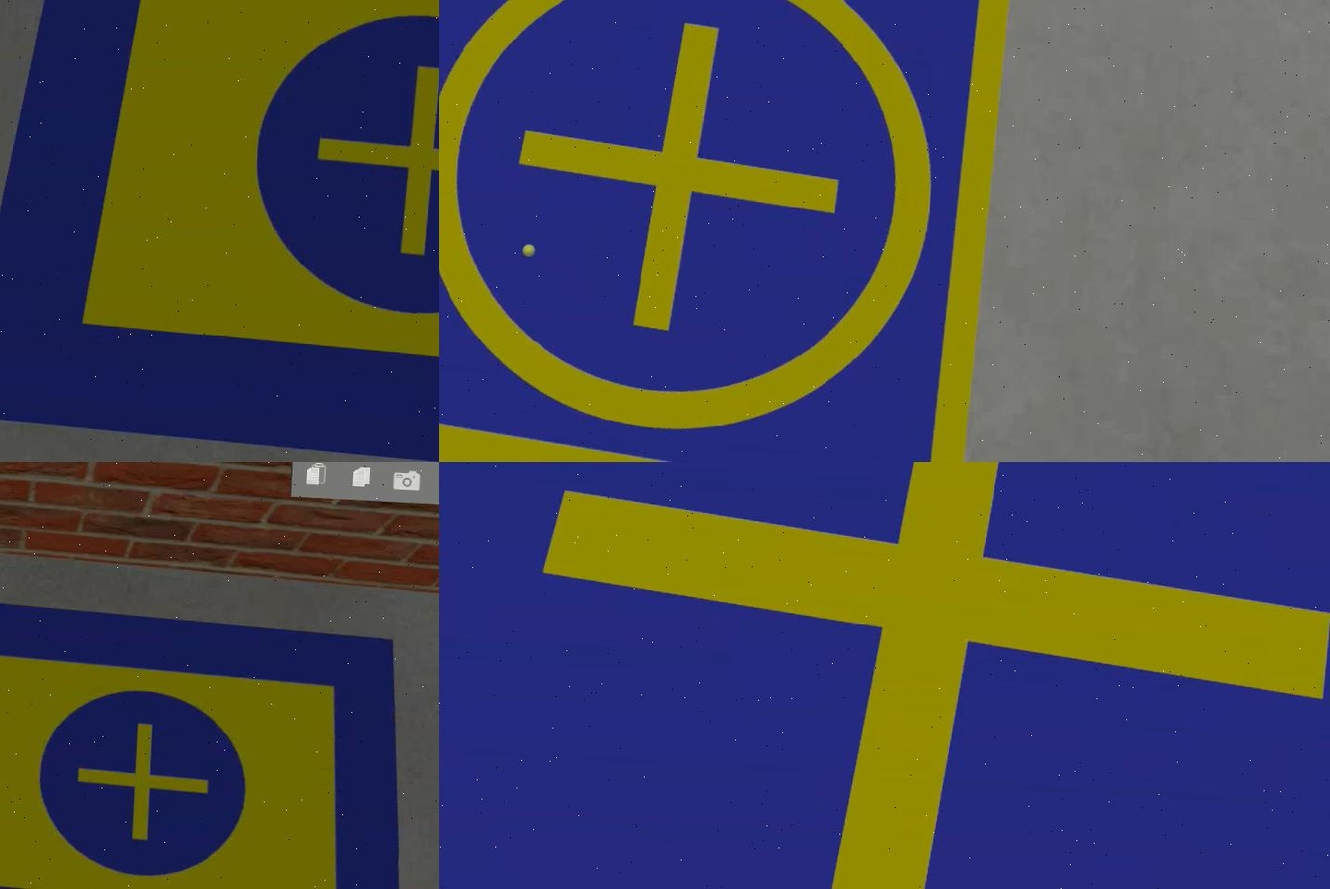large_base: (0, 1, 437, 462), (0, 594, 421, 889)
small_base: (437, 462, 1328, 889), (437, 1, 1026, 462)
